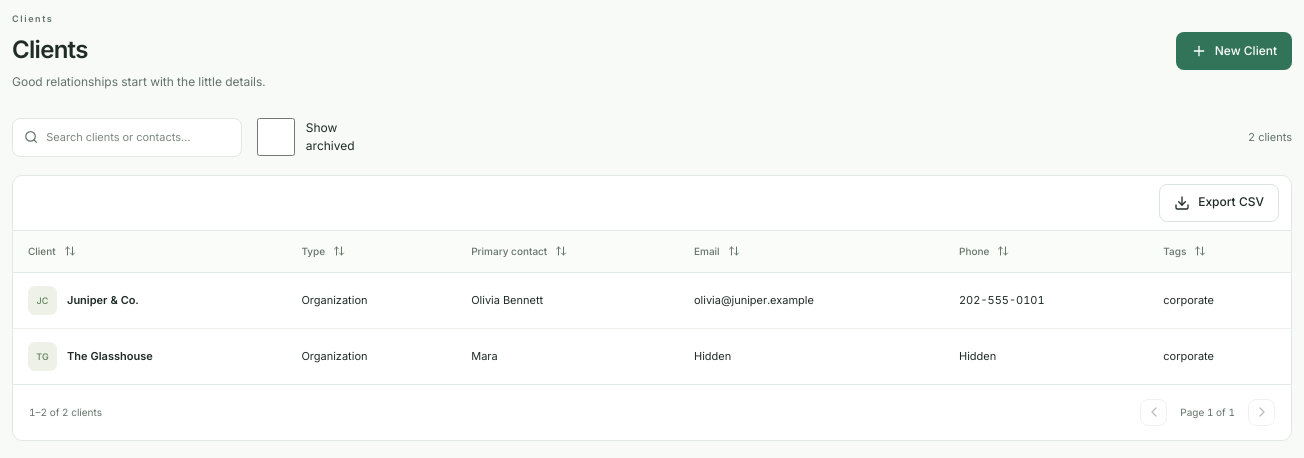
it: lists clients from the API and hides contact details it isn't given
Expected: the text "The Glasshouse" is shown, [67,348,153,365]
Expected: the text "Hidden" is shown 2 times, [679,328,944,384]; [944,328,1148,384]
Type "Olivia" into the field labelled "Search clients or contacts…" at (138, 137), box [46,119,230,156]
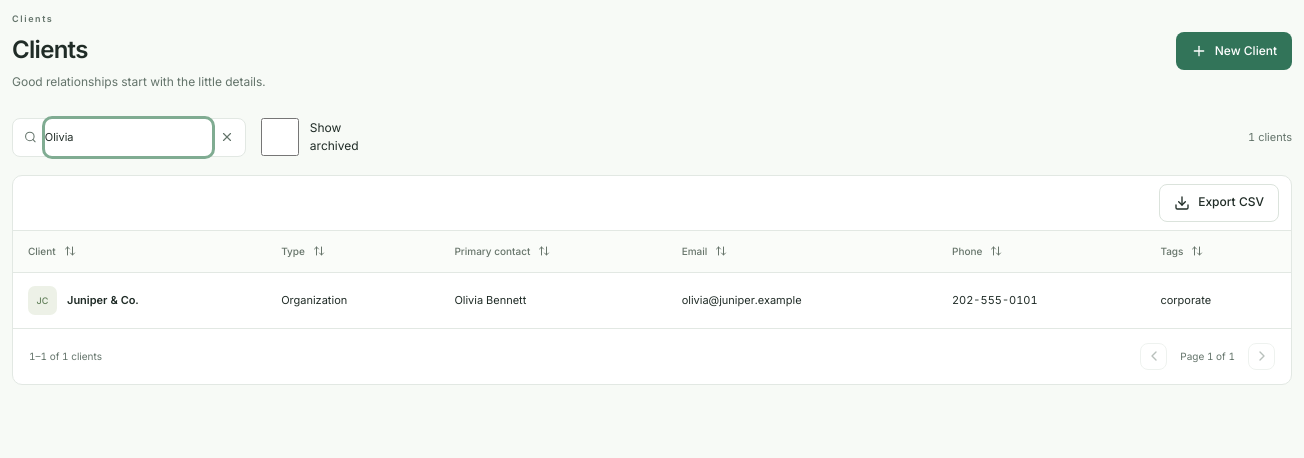
Expected: the text "Juniper & Co." is shown, [67,292,138,309]
Now the text "The Glasshouse" is gone
